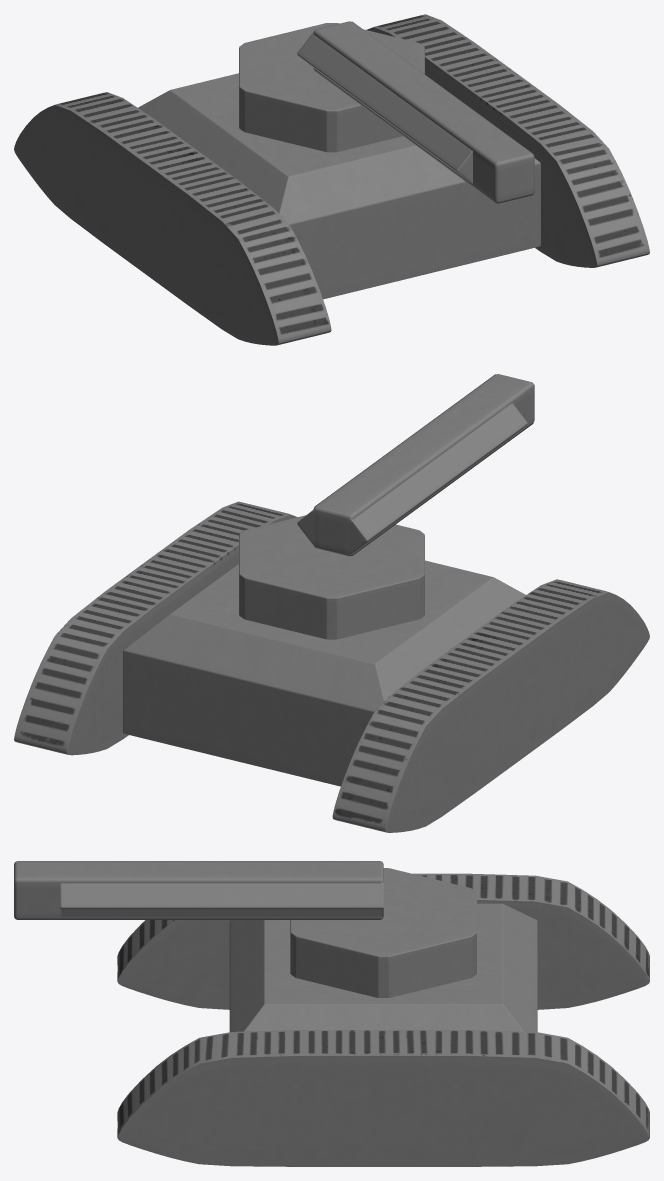
File: tank01.FBX
3 renders of one model, top to bottom at view 1: azimuth 30°, elevation 25°; view 2: azimuth 150°, elevation 25°; view 3: azimuth 270°, elevation 25°, orthographic.
Parts seen in each view (by area): view 1: Plane001, Box001, Gengon001, Box002, Box003; view 2: Plane001, Box001, Gengon001, Box002, Box003; view 3: Plane001, Box001, Gengon001, Box002, Box003.
Part boxes in pixels (x1,y1,x2,y2): Plane001: (14,14,649,345); Box001: (138,73,540,299); Gengon001: (239,23,424,152); Box002: (313,21,534,203); Box003: (297,33,472,183); Plane001: (14,501,649,832); Box001: (123,560,525,786); Gengon001: (239,515,424,639); Box002: (313,374,534,556); Box003: (297,403,527,553); Plane001: (117,873,649,1166); Box001: (229,903,537,1032); Gengon001: (290,868,476,997); Box002: (14,861,383,919); Box003: (60,882,383,917).
Size of the model in its own units: 140 by 73.92 by 206.
